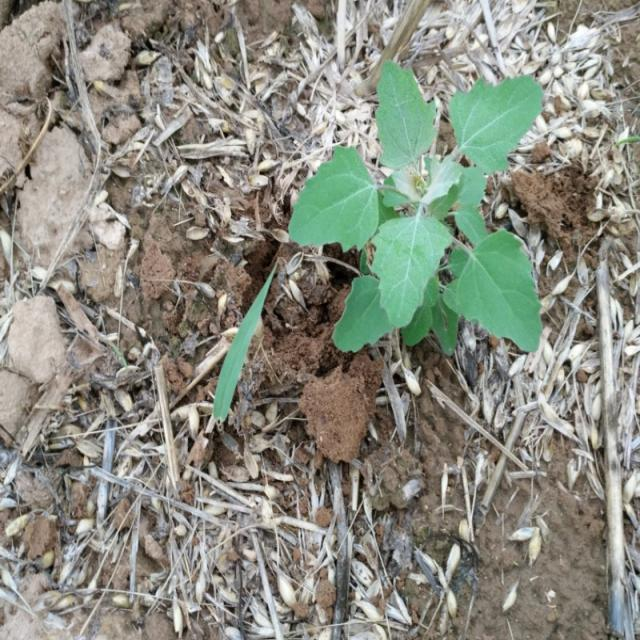goosefoots: (262, 54, 538, 374)
